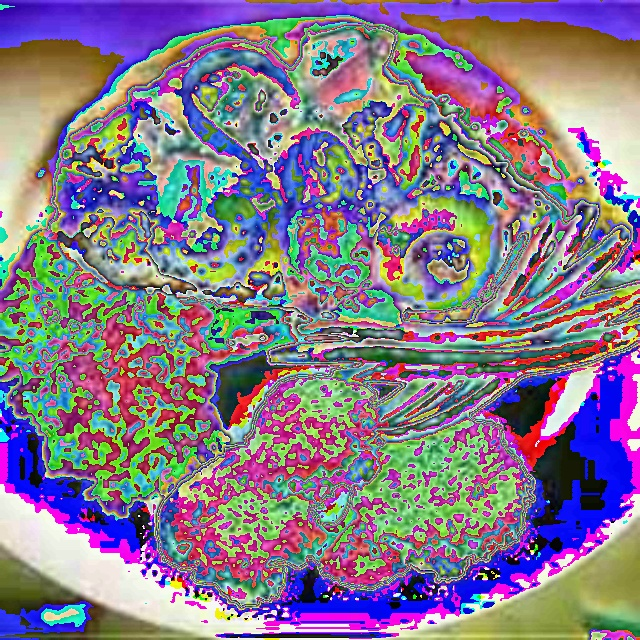background: (0, 23, 640, 612)
